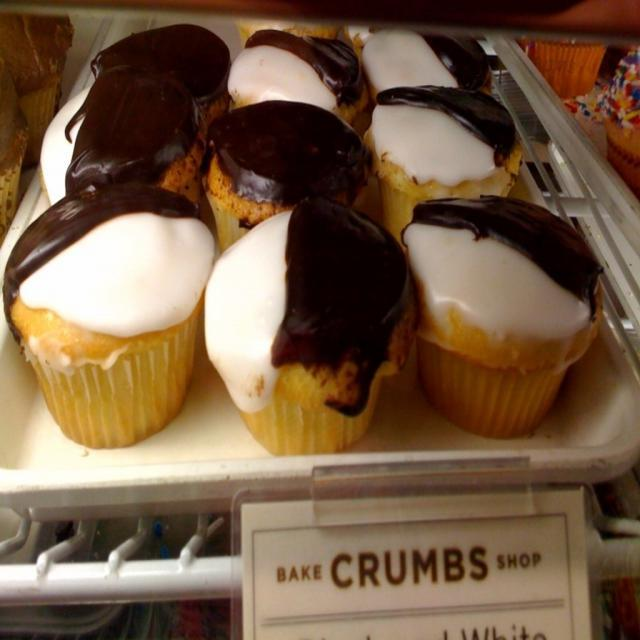Muffin: (9, 179, 219, 453), (202, 201, 412, 457), (400, 196, 600, 444), (37, 67, 215, 223), (353, 82, 515, 250), (207, 98, 365, 264), (92, 19, 240, 130), (230, 27, 375, 129), (361, 20, 491, 94)
